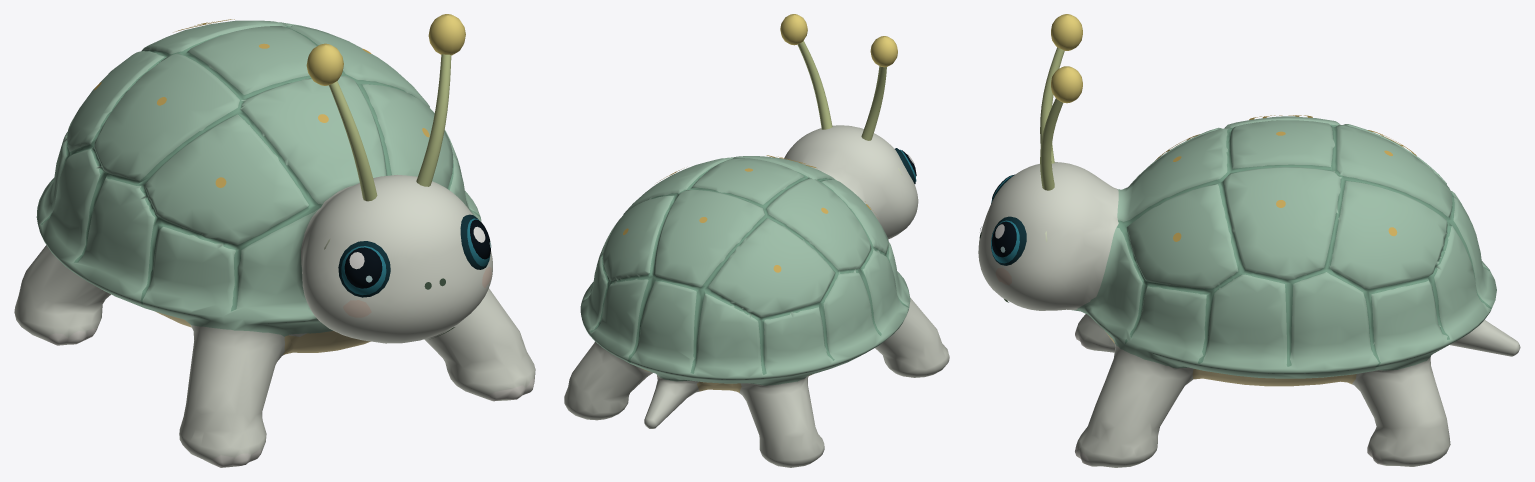
The model's file is shellmere.glb.
The picture shows the model from 3 angles, left to right: view 1: azimuth 30°, elevation 25°; view 2: azimuth 150°, elevation 25°; view 3: azimuth 270°, elevation 25°; orthographic projection. The views are drawn at different scales.
Parts seen in each view (by area): view 1: body, eyes; view 2: body, eyes; view 3: body, eyes.
Boxes of the visible parts, bbox=[...] form: body: bbox=[14, 20, 535, 467]; eyes: bbox=[94, 14, 491, 337]; body: bbox=[564, 125, 949, 467]; eyes: bbox=[623, 14, 916, 272]; body: bbox=[978, 116, 1520, 467]; eyes: bbox=[979, 14, 1416, 302].
Size of the model in its own units: 0.9288 by 0.971 by 1.32.
